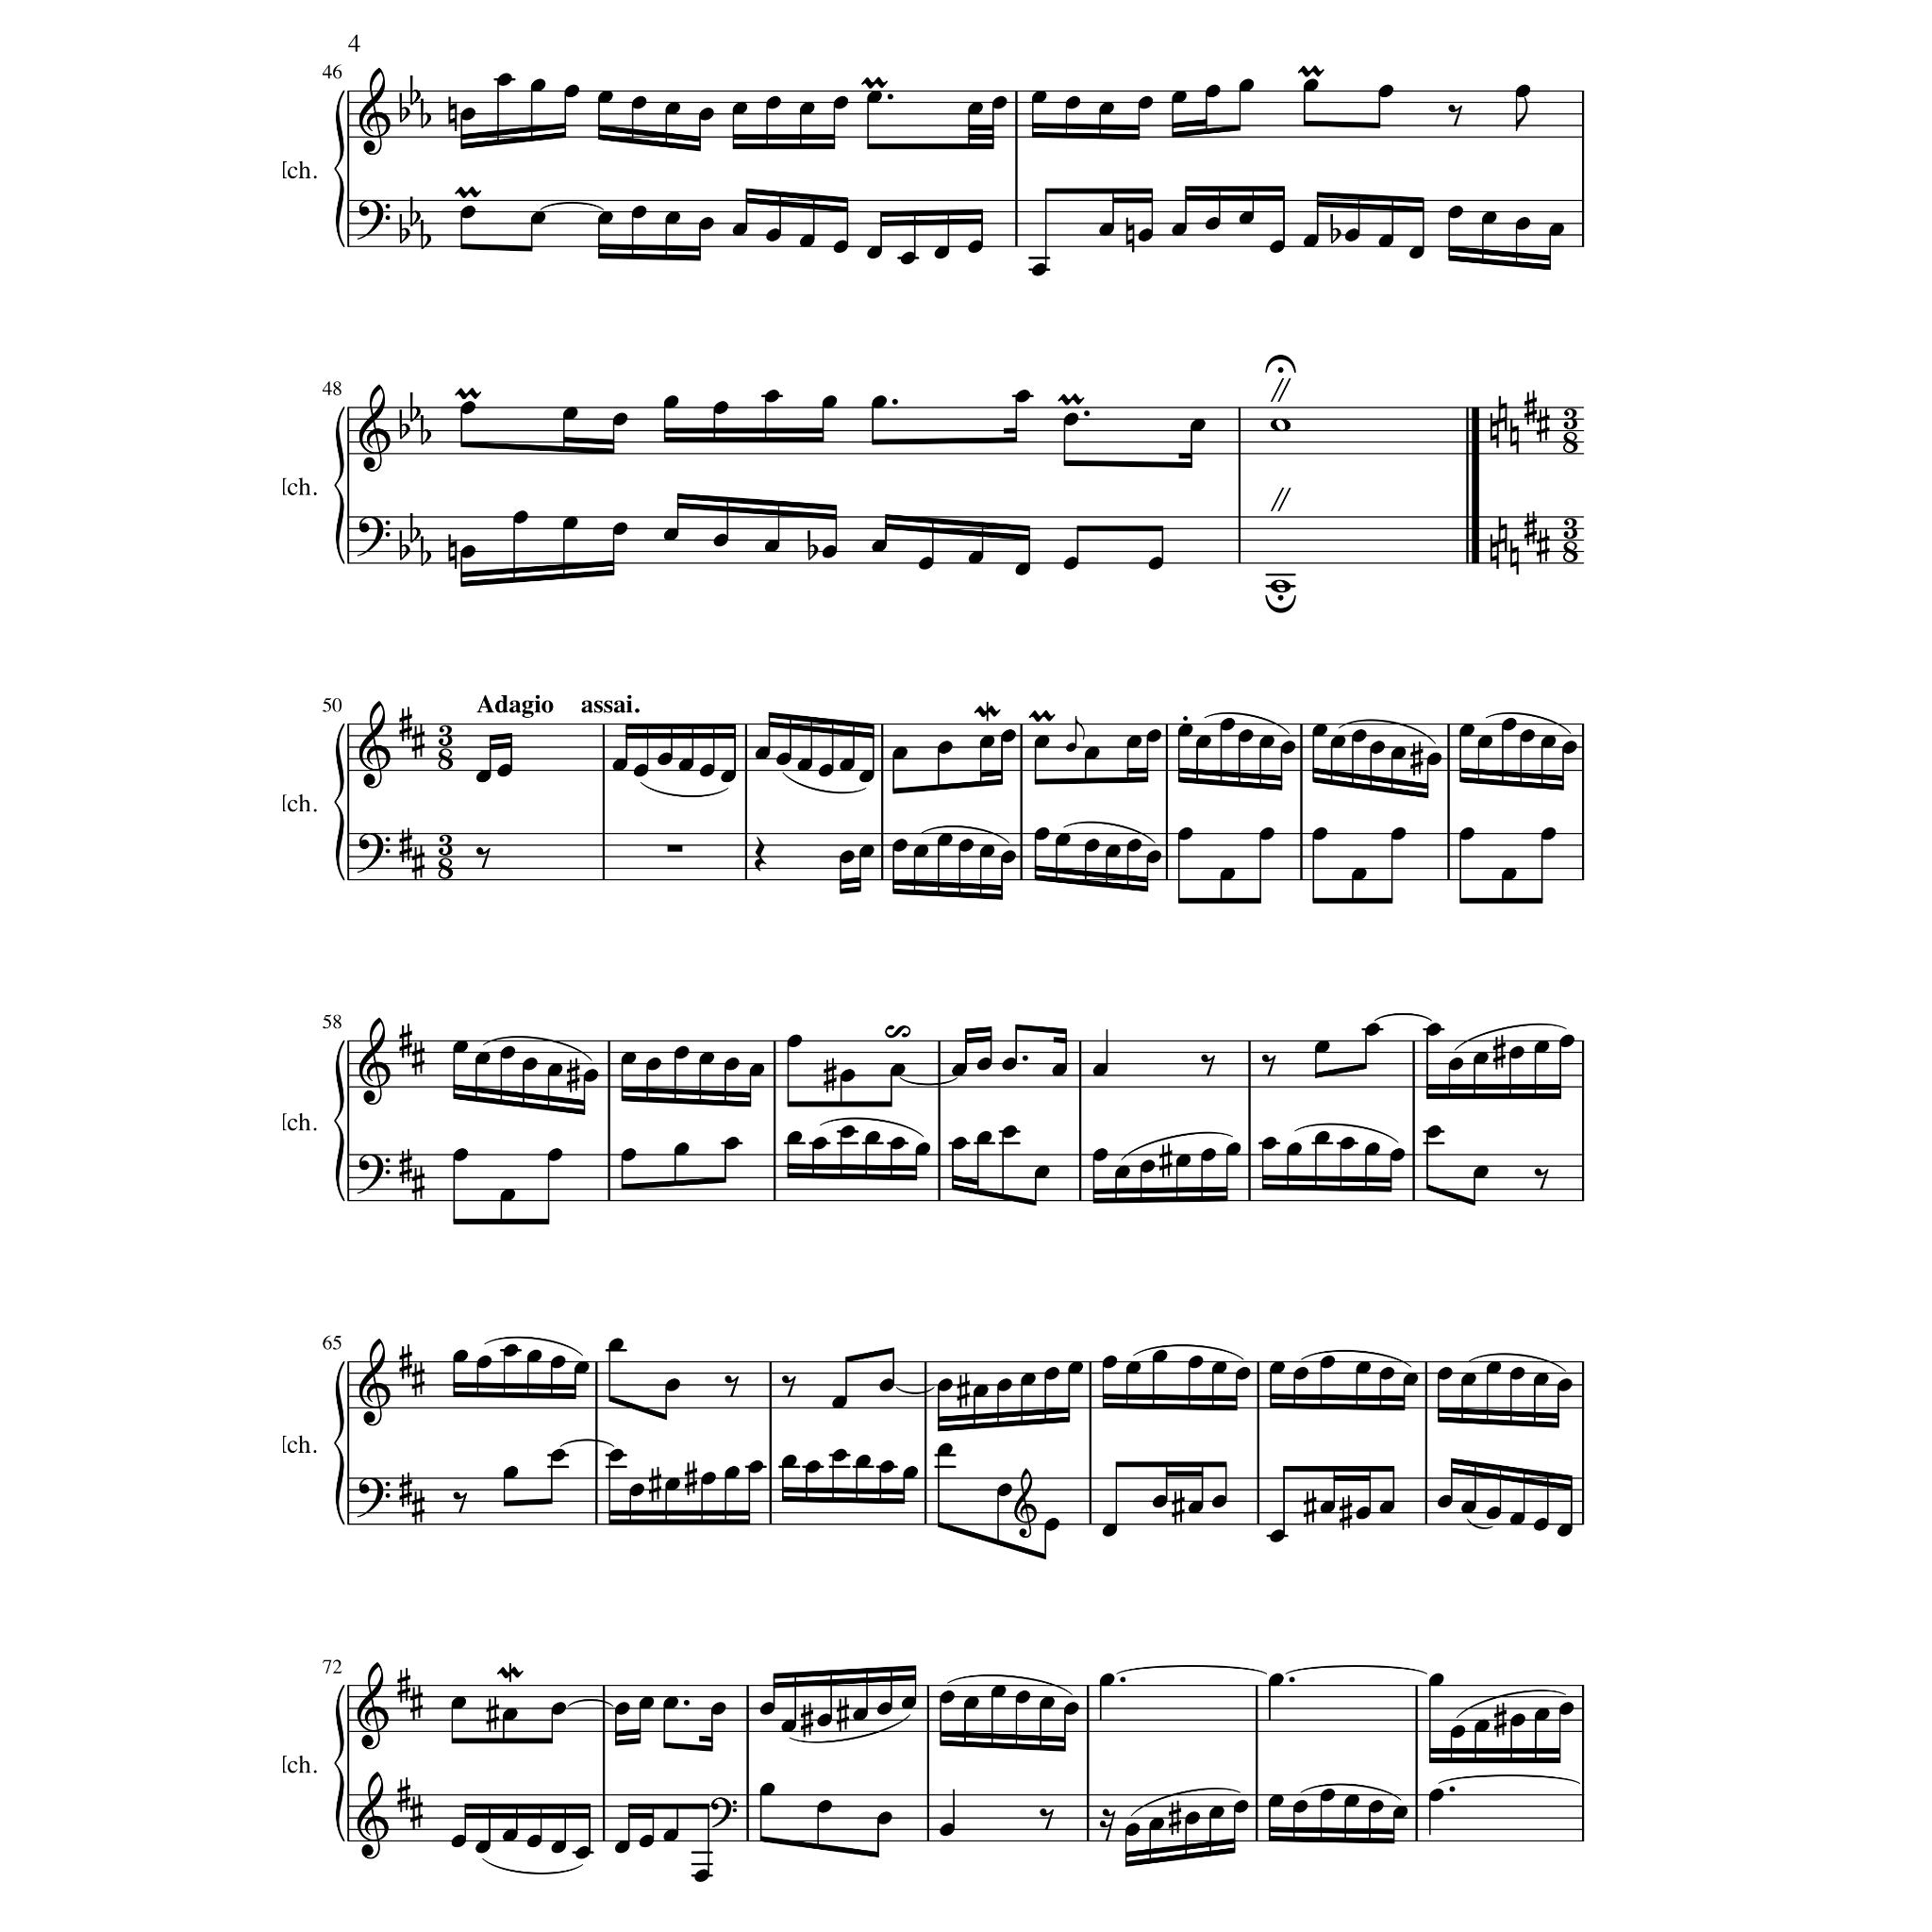brace: (333, 1361, 345, 1525), (333, 1040, 345, 1201), (333, 722, 345, 881), (333, 90, 345, 248), (333, 407, 345, 564), (333, 1684, 345, 1842)
fClef: (357, 200, 391, 241), (357, 517, 391, 557), (357, 833, 391, 874), (357, 1154, 391, 1194), (357, 1477, 391, 1518)
flag8thDown: (1516, 97, 1529, 131)
flag8thUp: (1076, 717, 1085, 741)
gClef: (359, 67, 391, 156), (359, 384, 391, 472), (359, 701, 391, 789), (359, 1017, 391, 1106), (359, 1338, 391, 1426), (357, 1771, 389, 1859), (357, 1661, 389, 1750)
noteheadBlack: (630, 205, 648, 219), (630, 96, 648, 110), (1014, 389, 1031, 403), (1014, 563, 1031, 577), (1539, 734, 1557, 748), (858, 770, 876, 784), (858, 844, 876, 858), (672, 1046, 690, 1060), (816, 1799, 833, 1813), (816, 1713, 833, 1727), (1171, 90, 1187, 104), (1238, 211, 1254, 225), (1205, 216, 1221, 230), (991, 96, 1007, 110), (1031, 90, 1047, 104), (1138, 96, 1154, 110), (1065, 96, 1081, 110), (1514, 216, 1530, 230), (1481, 211, 1497, 225), (1447, 205, 1463, 219), (1408, 246, 1424, 260), (665, 211, 681, 225), (697, 216, 713, 230), (529, 211, 545, 225), (460, 205, 476, 219), (596, 211, 612, 225), (596, 90, 612, 104), (899, 251, 915, 265), (867, 246, 883, 260), (867, 90, 883, 104), (934, 246, 950, 260), (766, 96, 782, 110), (833, 96, 849, 110), (1063, 556, 1079, 570), (1191, 418, 1207, 432), (870, 395, 886, 409), (1148, 556, 1164, 570), (918, 556, 934, 570), (968, 550, 984, 564), (563, 517, 579, 531), (563, 407, 579, 421), (513, 510, 529, 524), (612, 522, 628, 536), (460, 545, 476, 559), (764, 389, 780, 403), (821, 395, 837, 409), (821, 545, 837, 559), (663, 395, 679, 409), (1260, 734, 1276, 748), (1237, 729, 1253, 743), (1125, 734, 1141, 748), (1146, 729, 1162, 743), (1146, 849, 1162, 863), (1083, 747, 1099, 761), (1106, 844, 1122, 858), (1194, 734, 1210, 748), (1520, 729, 1536, 743), (1391, 747, 1407, 761), (1330, 734, 1346, 748), (1352, 729, 1368, 743), (1477, 734, 1493, 748), (1426, 752, 1442, 766), (754, 747, 770, 761), (720, 770, 736, 784), (656, 752, 672, 766), (678, 757, 694, 771), (839, 757, 855, 771), (839, 849, 855, 863), (777, 752, 793, 766), (796, 757, 812, 771), (476, 770, 492, 784), (612, 757, 628, 771), (978, 844, 994, 858), (978, 734, 994, 748), (1033, 734, 1049, 748), (892, 747, 908, 761), (913, 844, 929, 858), (1315, 1040, 1330, 1054), (1315, 1131, 1330, 1145), (1033, 1166, 1049, 1180), (1001, 1125, 1017, 1139), (1115, 1166, 1131, 1180), (1139, 1159, 1155, 1173), (1175, 1154, 1191, 1168), (1534, 1040, 1550, 1054), (1509, 1046, 1525, 1060), (1474, 1166, 1490, 1180), (1424, 1125, 1440, 1139), (582, 1069, 598, 1083), (453, 1040, 469, 1054), (499, 1046, 515, 1060), (865, 1131, 881, 1145), (977, 1131, 993, 1145), (786, 1131, 801, 1145), (839, 1125, 855, 1139), (839, 1069, 855, 1083), (1269, 1529, 1284, 1543), (1269, 1361, 1284, 1375), (1320, 1355, 1336, 1369), (1320, 1500, 1336, 1514), (1355, 1361, 1371, 1375), (1067, 1361, 1083, 1375), (1102, 1355, 1118, 1369), (1102, 1523, 1118, 1537), (1187, 1355, 1203, 1369), (1187, 1500, 1203, 1514), (1212, 1361, 1228, 1375), (1125, 1361, 1141, 1375), (1212, 1495, 1228, 1509), (1152, 1495, 1168, 1509), (1557, 1523, 1573, 1537), (1532, 1518, 1548, 1532), (1437, 1495, 1453, 1509), (1378, 1500, 1394, 1514), (1461, 1500, 1477, 1514), (1486, 1361, 1502, 1375), (628, 1483, 644, 1497), (665, 1477, 681, 1491), (609, 1338, 625, 1352), (609, 1449, 625, 1463), (748, 1460, 764, 1474), (476, 1355, 492, 1369), (550, 1355, 566, 1369), (550, 1449, 566, 1463), (573, 1361, 589, 1375), (1044, 1518, 1060, 1532), (996, 1483, 1012, 1497), (805, 1460, 821, 1474), (832, 1396, 847, 1410), (832, 1449, 847, 1463), (780, 1454, 796, 1468), (879, 1460, 895, 1474), (855, 1454, 870, 1468), (1148, 1817, 1164, 1831), (1123, 1822, 1139, 1836), (1267, 1794, 1283, 1808), (1233, 1799, 1249, 1813), (991, 1684, 1007, 1698), (1534, 1707, 1550, 1721), (1509, 1713, 1525, 1727), (1474, 1718, 1490, 1732), (1449, 1725, 1465, 1739), (1368, 1799, 1384, 1813), (1345, 1794, 1361, 1808), (1320, 1789, 1336, 1803), (1292, 1799, 1307, 1813), (1430, 1789, 1445, 1803), (614, 1840, 630, 1854), (575, 1845, 591, 1859), (550, 1840, 566, 1854), (663, 1828, 679, 1842), (639, 1835, 655, 1849), (451, 1835, 467, 1849), (525, 1835, 541, 1849), (501, 1828, 517, 1842), (501, 1707, 517, 1721), (474, 1840, 490, 1854), (853, 1707, 869, 1721), (780, 1718, 796, 1732), (939, 1822, 955, 1836), (694, 1868, 709, 1882), (731, 103, 748, 115), (731, 223, 748, 235), (1539, 828, 1557, 840), (957, 839, 975, 851), (672, 1143, 690, 1155), (971, 1385, 989, 1398), (1184, 1812, 1201, 1824), (1014, 1691, 1031, 1704), (1001, 729, 1016, 743), (1001, 849, 1016, 863), (1171, 223, 1187, 235), (1205, 85, 1221, 97), (1269, 241, 1284, 253), (1238, 80, 1254, 92), (1031, 264, 1047, 276), (1099, 103, 1115, 115), (1099, 223, 1115, 235), (1138, 228, 1154, 241), (1548, 223, 1564, 235), (1514, 85, 1530, 97), (1378, 235, 1394, 248), (1378, 85, 1394, 97), (1345, 228, 1361, 241), (1302, 235, 1318, 248), (1302, 80, 1318, 92), (665, 103, 681, 115), (697, 108, 713, 120), (529, 80, 545, 92), (495, 74, 511, 87), (564, 85, 580, 97), (460, 108, 476, 120), (968, 241, 984, 253), (968, 103, 984, 115), (766, 228, 782, 241), (798, 103, 814, 115), (833, 241, 849, 253), (798, 235, 814, 248), (1063, 414, 1079, 426), (870, 540, 886, 552), (612, 414, 628, 426), (460, 402, 476, 414), (764, 540, 780, 552), (663, 529, 679, 541), (713, 534, 729, 547), (713, 402, 729, 414), (1260, 828, 1276, 840), (1219, 718, 1235, 731), (1219, 869, 1235, 881), (1279, 741, 1295, 754), (1311, 724, 1327, 736), (1311, 828, 1327, 840), (1125, 839, 1141, 851), (1083, 839, 1099, 851), (1177, 724, 1192, 736), (1177, 828, 1192, 840), (1562, 741, 1578, 754), (1502, 718, 1518, 731), (1502, 869, 1518, 881), (1369, 741, 1385, 754), (1391, 828, 1407, 840), (1352, 869, 1368, 881), (1460, 724, 1476, 736), (1460, 828, 1476, 840), (699, 764, 715, 777), (817, 764, 833, 777), (633, 764, 649, 777), (497, 764, 513, 777), (1054, 833, 1070, 846), (1033, 828, 1049, 840), (892, 839, 908, 851), (936, 741, 952, 754), (936, 833, 952, 846), (1226, 1143, 1242, 1155), (1201, 1148, 1217, 1161), (1286, 1143, 1302, 1155), (1051, 1063, 1067, 1076), (1092, 1063, 1108, 1076), (1092, 1148, 1108, 1161), (1001, 1058, 1017, 1070), (1559, 1035, 1575, 1047), (1364, 1143, 1380, 1155), (1389, 1148, 1405, 1161), (1424, 1023, 1440, 1035), (1339, 1138, 1355, 1150), (1364, 1023, 1380, 1035), (1447, 1058, 1463, 1070), (1474, 1053, 1490, 1065), (621, 1053, 637, 1065), (621, 1148, 637, 1161), (699, 1053, 715, 1065), (724, 1058, 740, 1070), (724, 1138, 740, 1150), (646, 1058, 662, 1070), (453, 1148, 469, 1161), (522, 1058, 538, 1070), (547, 1063, 563, 1076), (547, 1148, 563, 1161), (474, 1053, 490, 1065), (499, 1189, 515, 1201), (890, 1063, 906, 1076), (890, 1138, 906, 1150), (915, 1143, 931, 1155), (977, 1058, 993, 1070), (950, 1063, 966, 1076), (950, 1138, 966, 1150), (786, 1035, 801, 1047), (748, 1063, 764, 1076), (812, 1138, 828, 1150), (1355, 1507, 1371, 1520), (1235, 1368, 1251, 1380), (1293, 1368, 1309, 1380), (1152, 1350, 1168, 1362), (1557, 1378, 1573, 1391), (1509, 1368, 1525, 1380), (1509, 1513, 1525, 1525), (1532, 1373, 1548, 1385), (1403, 1373, 1419, 1385), (1437, 1368, 1453, 1380), (1378, 1368, 1394, 1380), (1486, 1507, 1502, 1520), (1461, 1373, 1477, 1385), (665, 1378, 681, 1391), (724, 1467, 740, 1479), (701, 1472, 717, 1484), (453, 1350, 469, 1362), (525, 1350, 541, 1362), (502, 1345, 518, 1357), (502, 1467, 518, 1479), (936, 1378, 952, 1391), (936, 1444, 952, 1456), (1021, 1373, 1037, 1385), (1044, 1368, 1060, 1380), (902, 1467, 918, 1479), (996, 1378, 1012, 1391), (879, 1378, 895, 1391), (1208, 1806, 1224, 1819), (1267, 1674, 1283, 1686), (1039, 1697, 1054, 1709), (962, 1697, 978, 1709), (1099, 1674, 1115, 1686), (1063, 1702, 1079, 1714), (1559, 1702, 1575, 1714), (1430, 1674, 1445, 1686), (1392, 1806, 1408, 1819), (614, 1702, 630, 1714), (550, 1702, 566, 1714), (663, 1697, 679, 1709), (639, 1697, 655, 1709), (451, 1697, 467, 1709), (876, 1702, 892, 1714), (876, 1812, 892, 1824), (939, 1691, 955, 1704), (901, 1697, 916, 1709), (709, 1702, 725, 1714), (759, 1783, 775, 1796), (759, 1702, 775, 1714), (1261, 1138, 1276, 1150), (1065, 743, 1076, 752)
noteheadWhole: (1269, 418, 1292, 432), (1269, 580, 1292, 593)
rest16th: (1099, 1808, 1116, 1842)
rest8th: (1534, 1168, 1550, 1191), (780, 1375, 796, 1398), (1039, 1808, 1054, 1831), (1447, 104, 1461, 127), (476, 847, 490, 870), (724, 1375, 738, 1398), (453, 1491, 467, 1514), (1201, 1054, 1215, 1076), (1261, 1054, 1276, 1076)
restQuarter: (754, 837, 766, 872)
restWhole: (667, 846, 683, 853)
